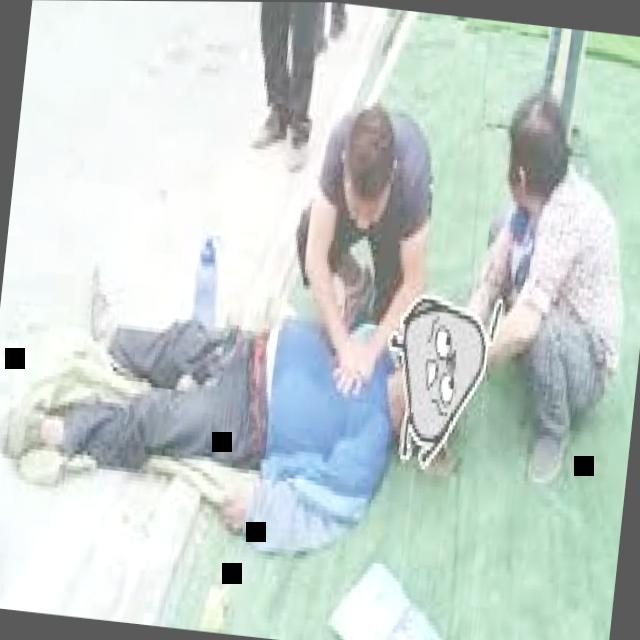Fall-Detected: (0, 220, 511, 582)
